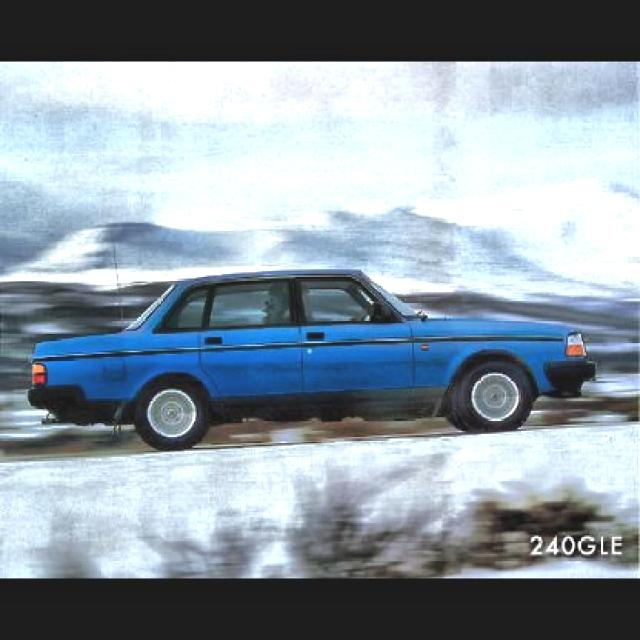blue: (13, 270, 640, 430)
